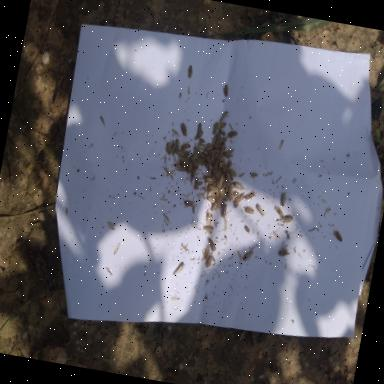pbw: (278, 244, 292, 258), (280, 214, 294, 228), (234, 192, 246, 206), (272, 206, 286, 218), (244, 188, 256, 202), (179, 122, 189, 138), (255, 204, 267, 217), (207, 239, 218, 253), (332, 230, 344, 242), (186, 160, 194, 178), (243, 249, 254, 262), (204, 255, 214, 269), (216, 121, 228, 132), (189, 157, 200, 169), (192, 145, 202, 158), (218, 188, 228, 201), (232, 181, 245, 191), (226, 186, 234, 202), (279, 192, 287, 208), (220, 204, 228, 220), (190, 166, 198, 182), (194, 130, 204, 142), (218, 160, 228, 172), (220, 110, 228, 124), (203, 248, 211, 262), (219, 142, 226, 158), (224, 172, 232, 186), (186, 65, 194, 79), (214, 136, 222, 150), (180, 141, 192, 150), (196, 123, 203, 138), (218, 157, 226, 170), (205, 213, 213, 226), (210, 169, 220, 179), (223, 84, 230, 98), (212, 122, 219, 136), (218, 172, 225, 186), (210, 200, 218, 212), (178, 156, 190, 164), (226, 159, 234, 171), (214, 194, 222, 206), (204, 154, 213, 164), (196, 142, 207, 150), (244, 207, 255, 215), (210, 148, 222, 155), (221, 176, 228, 188), (170, 143, 176, 157), (174, 139, 181, 151), (228, 130, 238, 138), (206, 196, 216, 204), (177, 165, 187, 173), (196, 156, 206, 164), (208, 184, 218, 192), (193, 177, 199, 190), (203, 225, 214, 232), (213, 158, 220, 169), (202, 161, 211, 169), (224, 184, 230, 196), (219, 136, 228, 144), (229, 170, 238, 178), (212, 134, 218, 146), (184, 200, 194, 207), (176, 150, 186, 157), (207, 188, 214, 198), (205, 177, 215, 184), (209, 152, 215, 163), (223, 153, 234, 159), (196, 180, 204, 188), (243, 226, 251, 234), (218, 129, 227, 136), (225, 148, 235, 154), (250, 172, 258, 179), (206, 145, 214, 152), (168, 142, 172, 153), (202, 150, 209, 156), (182, 160, 188, 167)
